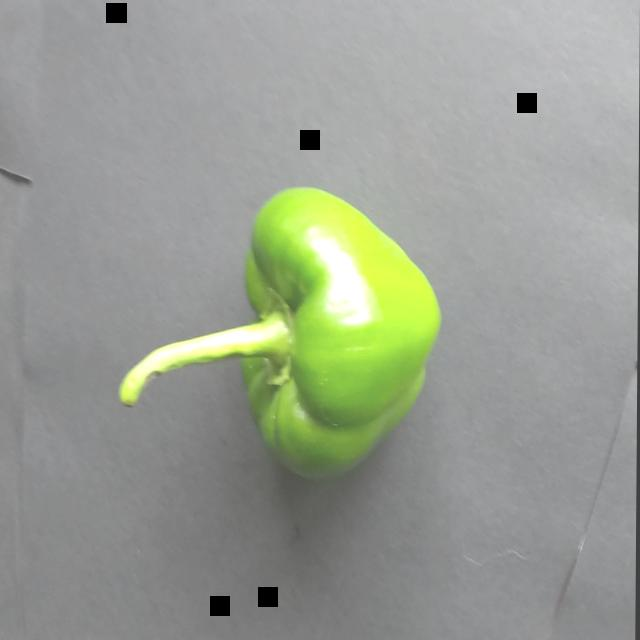Greenpepper: (103, 170, 449, 492)
